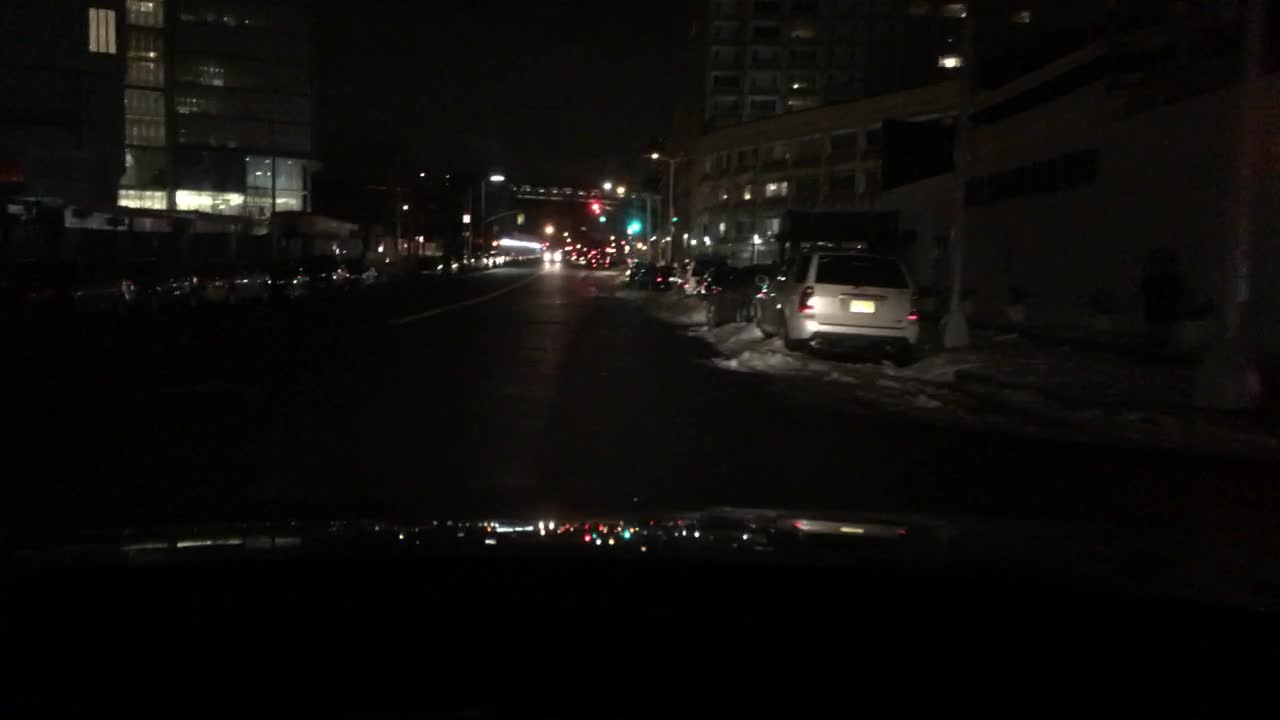car: (754, 247, 922, 363), (698, 258, 778, 329), (0, 274, 78, 324), (205, 267, 273, 304), (78, 277, 140, 315), (673, 252, 716, 296), (326, 260, 379, 295), (145, 274, 197, 308), (277, 267, 316, 300), (657, 262, 690, 293), (626, 254, 657, 286), (419, 253, 460, 273), (643, 257, 667, 288), (541, 248, 563, 268), (588, 252, 616, 267), (568, 250, 590, 269), (461, 252, 485, 269), (521, 247, 539, 260), (504, 249, 520, 262), (487, 253, 500, 265)
person: (1133, 244, 1188, 348)
traffic light: (629, 217, 642, 237), (592, 200, 599, 214)
traffic sign: (461, 214, 471, 227)
